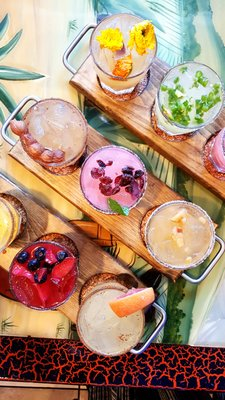sushi: (90, 13, 158, 100), (150, 62, 224, 138)
